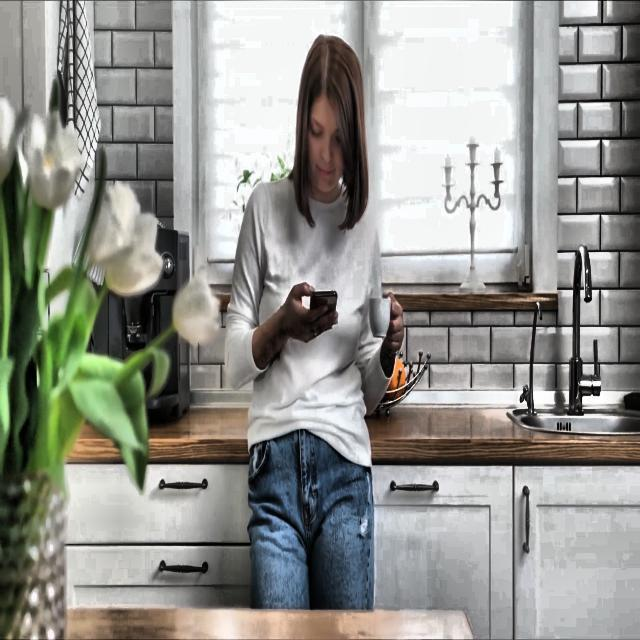Phone: (310, 288, 337, 318)
